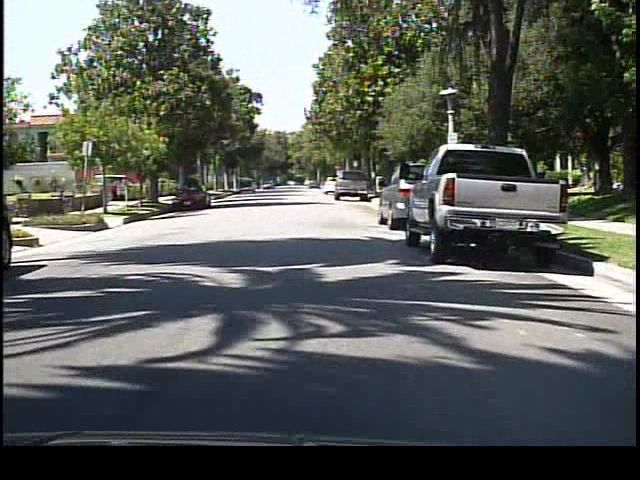car: (414, 134, 573, 268), (375, 162, 412, 229), (333, 167, 370, 204), (174, 186, 207, 209)
